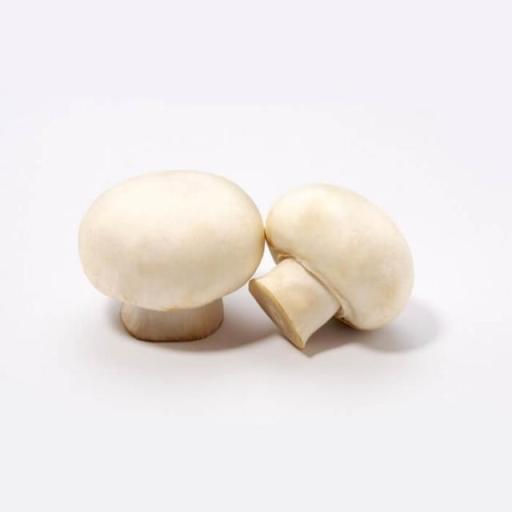mushroom: (80, 172, 262, 342), (250, 185, 411, 351)
